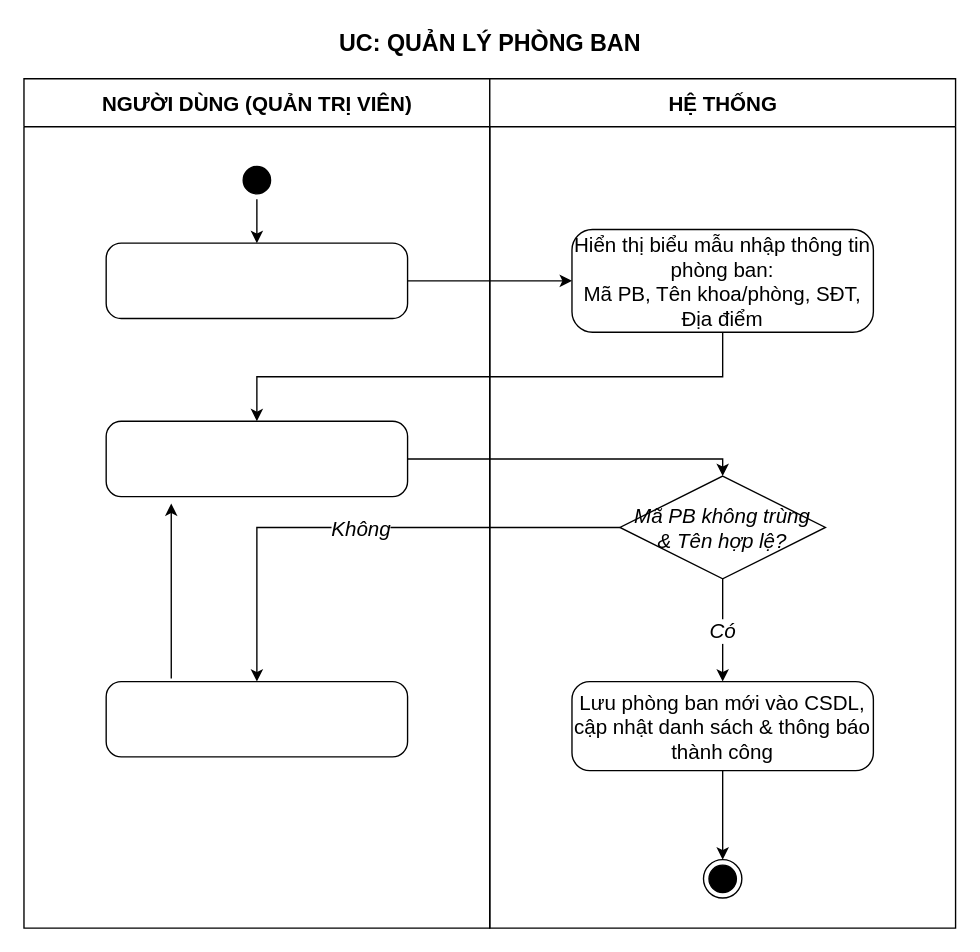
Some shapes in this 980 by 952 pixel diagram are drawn without their labels. Here are the shapes that lost their labels. From the top down, the centre of each, then its label:
pixel 256 280: Chọn chức năng "Quản lý phòng ban" và bấm nút "Thêm mới"
pixel 256 458: Nhập đầy đủ thông tin phòng ban và nhấn nút "Lưu"
pixel 256 718: Hiển thị thông báo lỗi trùng mã hoặc để trống thông tin bắt buộc
